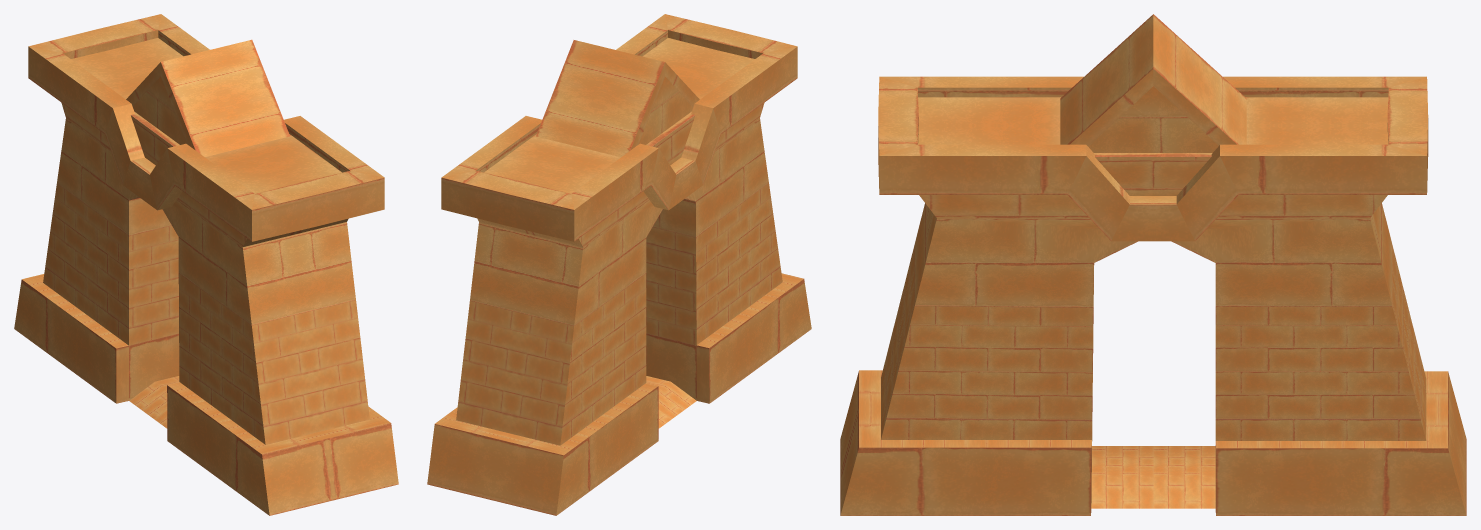
The model's file is TempleArch02_Art.glb.
3 views of the same model, side by side, from view 1: azimuth 30°, elevation 25°; view 2: azimuth 150°, elevation 25°; view 3: azimuth 270°, elevation 25° (orthographic). The views are drawn at different scales.
Visible parts, largest first — view 1: TempleArch02_Art; view 2: TempleArch02_Art; view 3: TempleArch02_Art.
Boxes of the visible parts, x1=… form: TempleArch02_Art: x1=14, y1=14, x2=398, y2=515; TempleArch02_Art: x1=427, y1=14, x2=811, y2=515; TempleArch02_Art: x1=840, y1=14, x2=1466, y2=515.
Bounding box in the file's own units: 8.98 × 22.99 × 29.92.
Materials: 2 (2 with a texture image).
